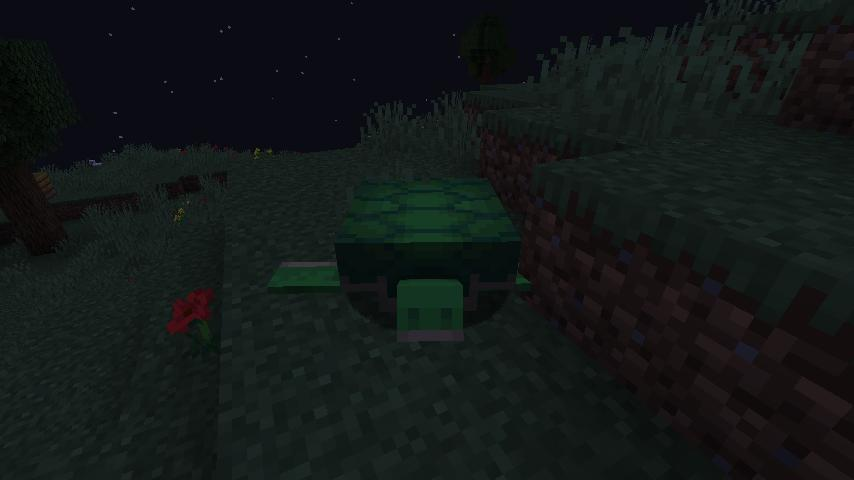turtle: (261, 173, 538, 344)
